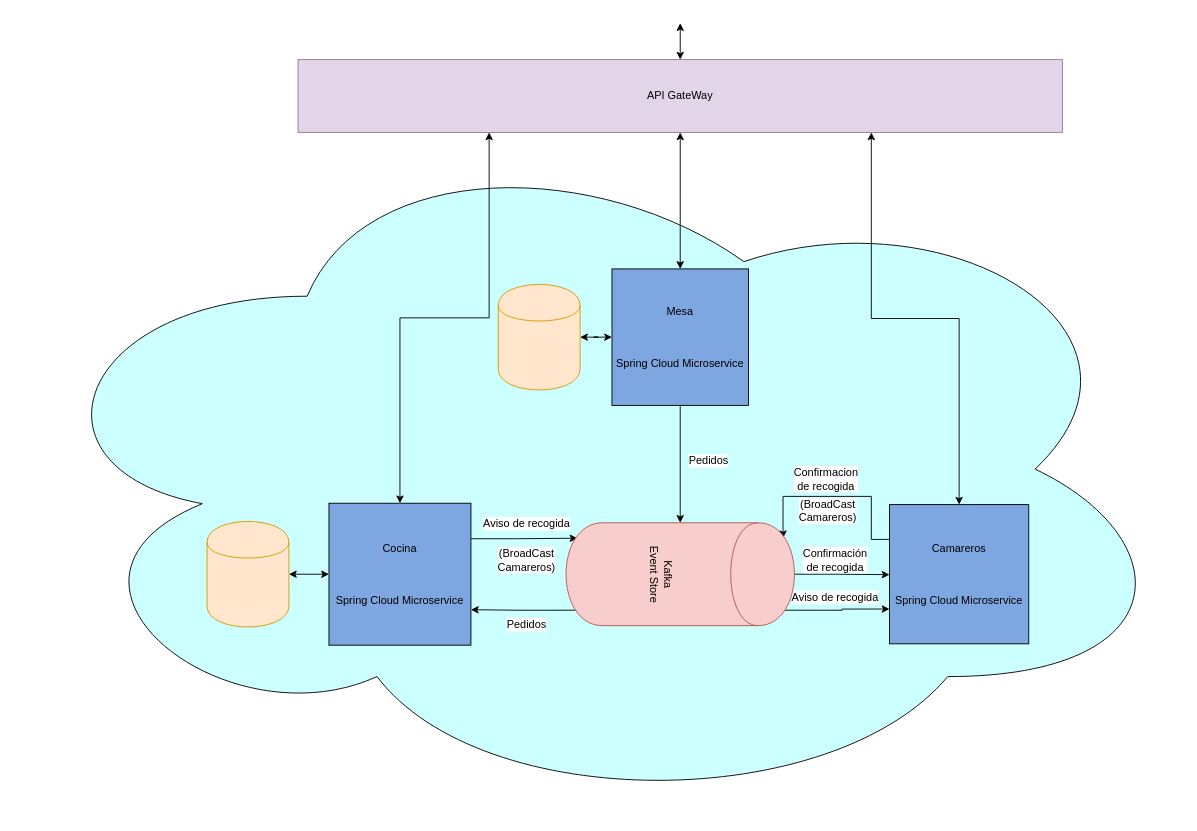
The diagram is 1197 pixels wide and 831 high, and some of its shapes have lost their labels. Here are the shapes that lost their labels. From the top down, the centre of each, then its label:
[538,336]: CuentaDB MongoDB
[247,574]: MenuDB MongoDB
